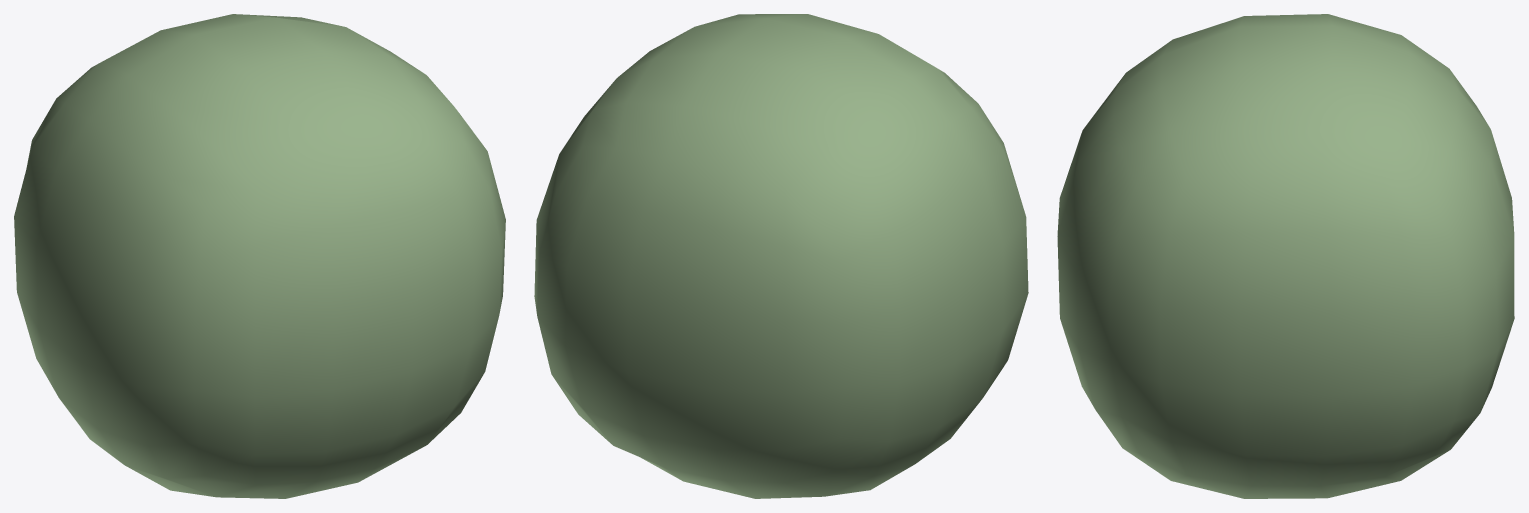
The model's file is topiary_ball.glb.
The picture shows the model from 3 angles, left to right: view 1: azimuth 30°, elevation 25°; view 2: azimuth 150°, elevation 25°; view 3: azimuth 270°, elevation 25°; orthographic projection.
Parts seen in each view (by area): view 1: topiary_ball; view 2: topiary_ball; view 3: topiary_ball.
Part boxes in pixels (bbox=[...]): topiary_ball: bbox=[14, 14, 505, 498]; topiary_ball: bbox=[534, 14, 1028, 498]; topiary_ball: bbox=[1057, 14, 1514, 498].
Size of the model in its own units: 0.9658 by 0.9854 by 0.9664.
